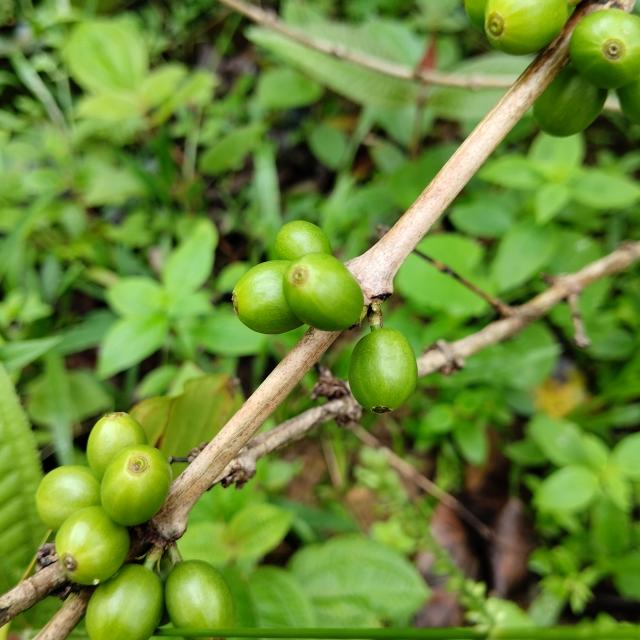green: (283, 252, 364, 331), (348, 328, 418, 414), (85, 565, 164, 640), (54, 507, 129, 586), (100, 445, 171, 527), (570, 8, 640, 88), (534, 63, 609, 136), (232, 260, 303, 334), (164, 561, 236, 630), (485, 0, 569, 54), (35, 466, 100, 532), (86, 413, 147, 481), (275, 220, 332, 261)
